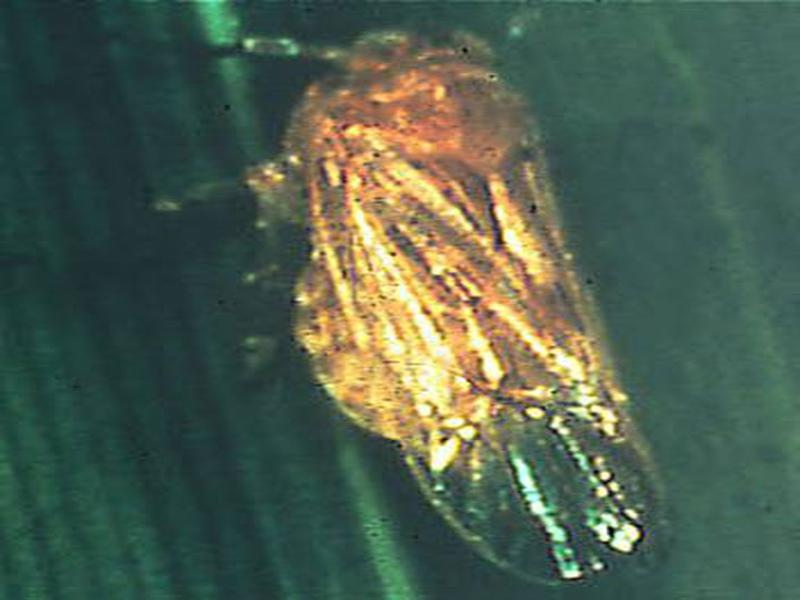White_backed_plant_hopper: (255, 23, 677, 578)
